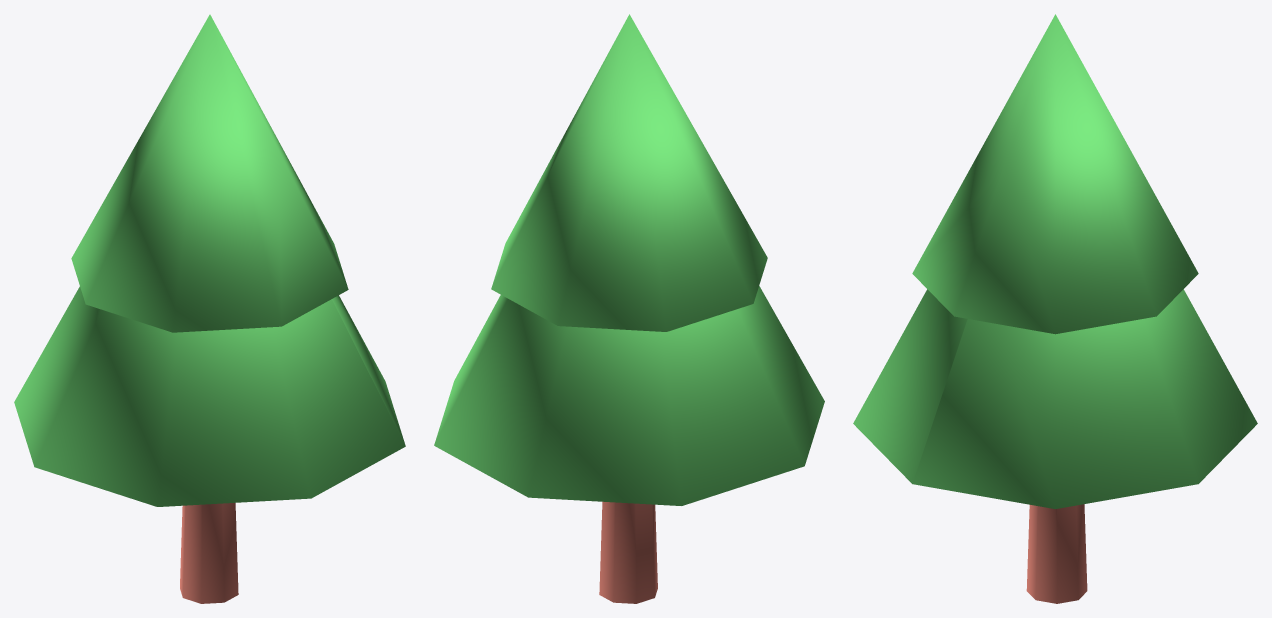
Rendered from ENV_Tree_02.fbx.
3 renders of one model, left to right at view 1: azimuth 30°, elevation 25°; view 2: azimuth 150°, elevation 25°; view 3: azimuth 270°, elevation 25°, orthographic.
Parts seen in each view (by area): view 1: Cone.001; view 2: Cone.001; view 3: Cone.001.
Part boxes in pixels (x1,y1,x2,y2): Cone.001: [14, 14, 405, 603]; Cone.001: [434, 14, 824, 603]; Cone.001: [853, 14, 1257, 603].
Bounding box in the file's own units: 800 × 800 × 1258.
